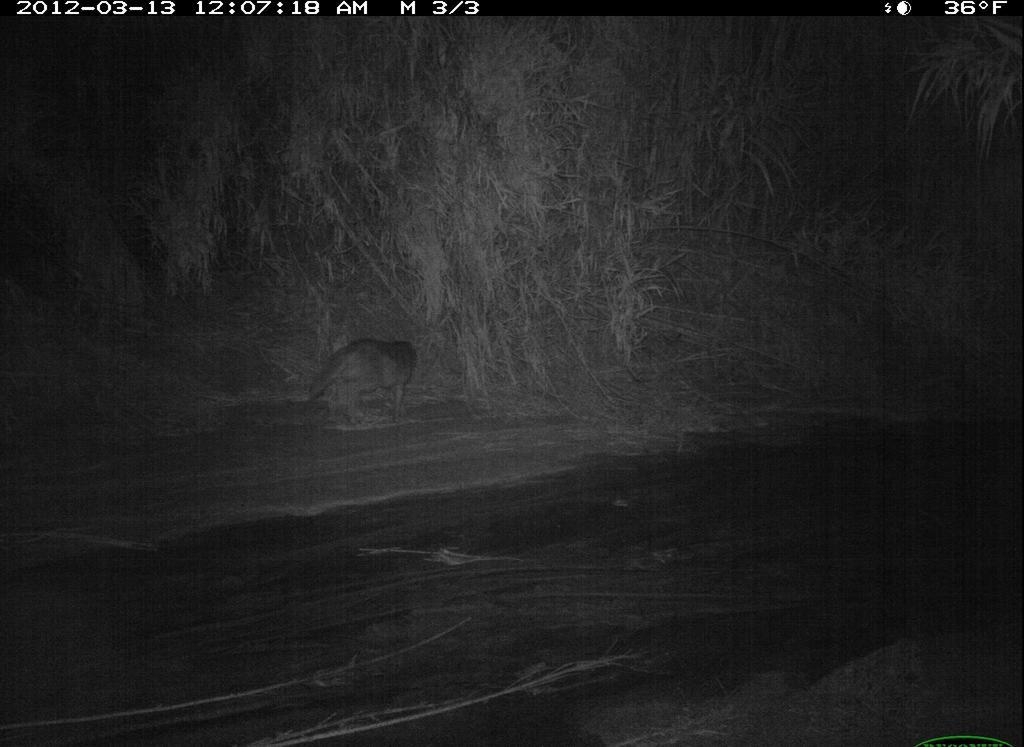coyote: (303, 326, 423, 428)
